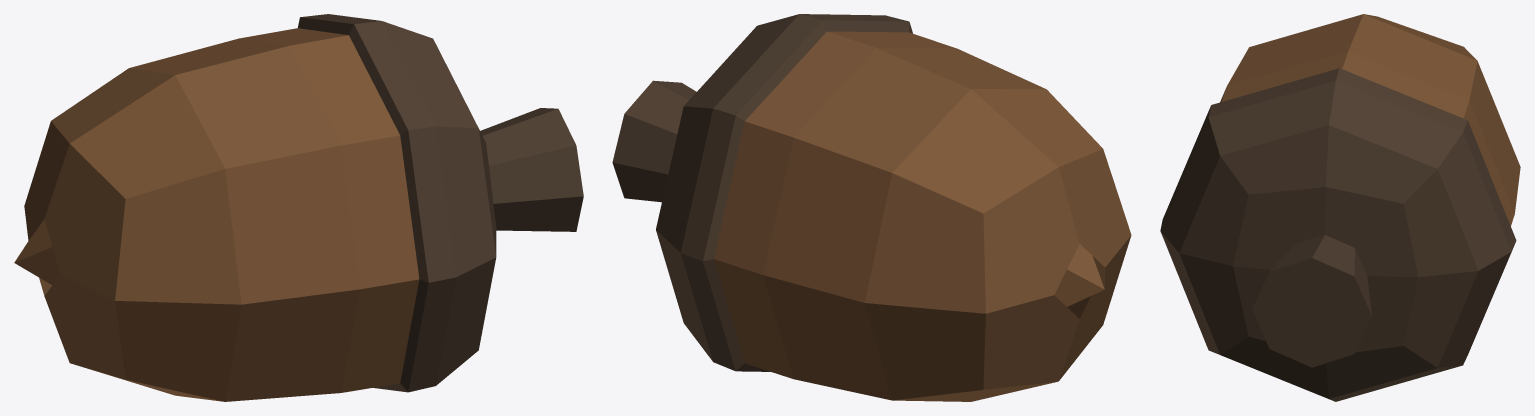
Rendered from dotori1.gltf.
3 renders of one model, left to right at view 1: azimuth 30°, elevation 25°; view 2: azimuth 150°, elevation 25°; view 3: azimuth 270°, elevation 25°, orthographic. The views are drawn at different scales.
Parts seen in each view (by area): view 1: Cube.005_Cube.001, Cube.006_Cube.001; view 2: Cube.005_Cube.001, Cube.006_Cube.001; view 3: Cube.006_Cube.001, Cube.005_Cube.001.
Part boxes in pixels (x1,y1,x2,y2): Cube.005_Cube.001: [14, 28, 419, 401]; Cube.006_Cube.001: [298, 14, 583, 392]; Cube.005_Cube.001: [714, 31, 1131, 401]; Cube.006_Cube.001: [612, 14, 912, 371]; Cube.006_Cube.001: [1160, 68, 1516, 401]; Cube.005_Cube.001: [1220, 14, 1520, 225].
Bounding box in the file's own units: 3.02 × 2.04 × 2.05.
